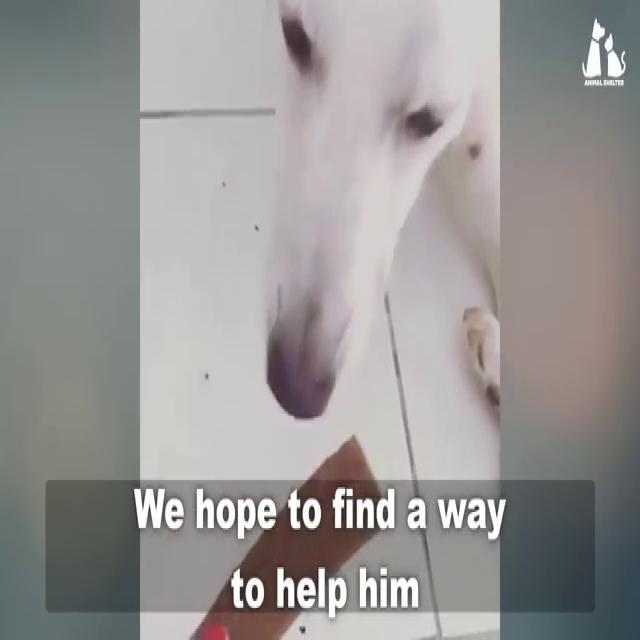injured-animals: (255, 2, 499, 428)
